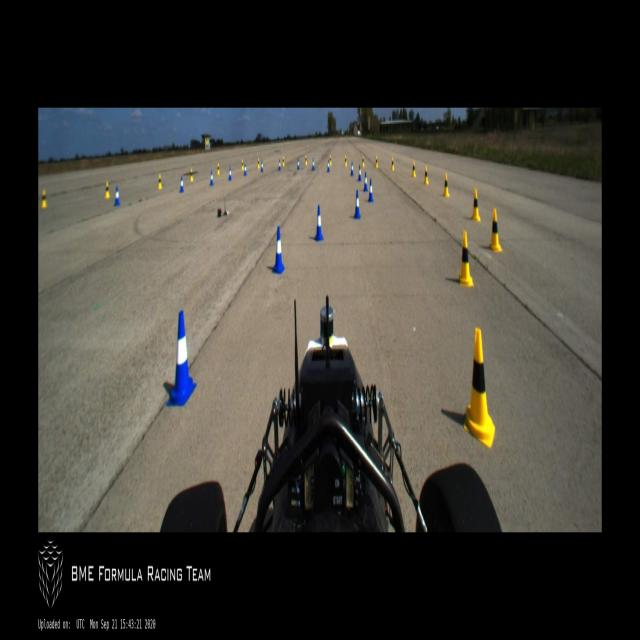blue_cone: (167, 313, 196, 407), (272, 227, 284, 276), (315, 204, 323, 242), (354, 189, 361, 220), (368, 178, 374, 202), (114, 186, 120, 205), (363, 172, 368, 192), (358, 164, 362, 182), (350, 160, 354, 175), (180, 177, 184, 192), (210, 170, 214, 184), (228, 168, 232, 180), (328, 159, 330, 172), (297, 158, 299, 171), (312, 158, 314, 171), (244, 163, 246, 175), (261, 160, 263, 172), (278, 159, 280, 170)
yellow_cone: (465, 328, 495, 448), (457, 231, 474, 286), (489, 208, 502, 252), (471, 189, 480, 222), (443, 172, 449, 197), (41, 189, 47, 208), (424, 166, 428, 185), (412, 160, 416, 178), (106, 181, 110, 197), (158, 174, 162, 189), (391, 157, 394, 171), (190, 169, 193, 182), (344, 156, 347, 167), (362, 155, 364, 168), (376, 157, 378, 169), (329, 156, 332, 164), (217, 163, 219, 174), (258, 158, 260, 168), (242, 160, 244, 169), (282, 157, 284, 166), (305, 157, 307, 166)
